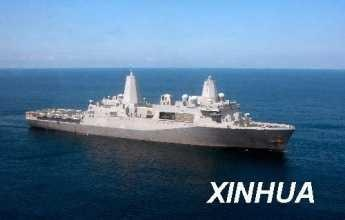warship: (21, 65, 301, 153)
